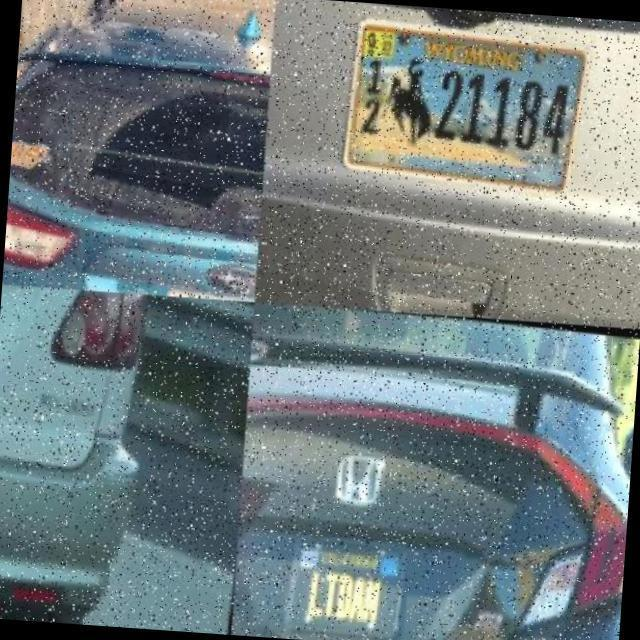License Plate: (345, 14, 595, 193), (288, 536, 416, 636), (0, 284, 40, 368)
